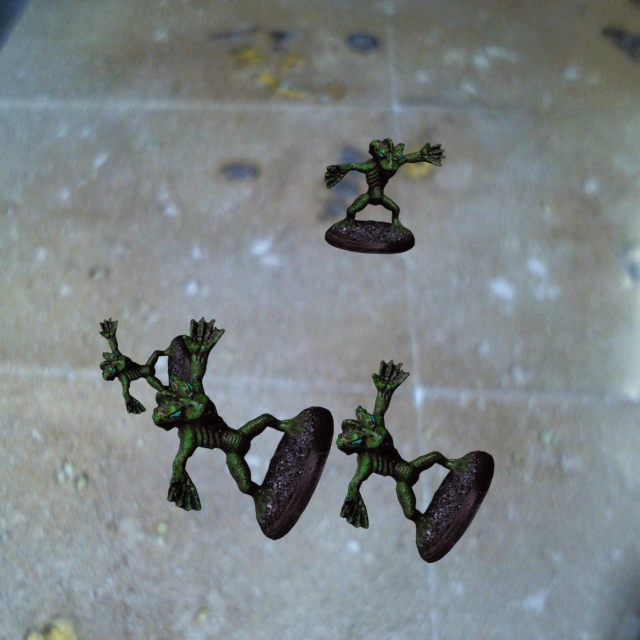pieza_juego: (152, 317, 333, 539), (336, 360, 494, 562), (324, 138, 445, 253), (99, 318, 194, 413)
